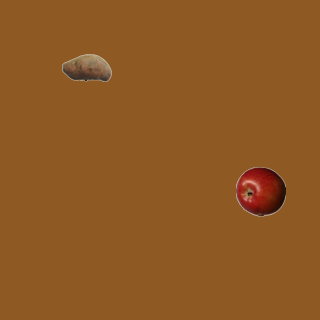Apple Braeburn: (235, 166, 285, 216)
Potato Sweet: (61, 42, 111, 92)
